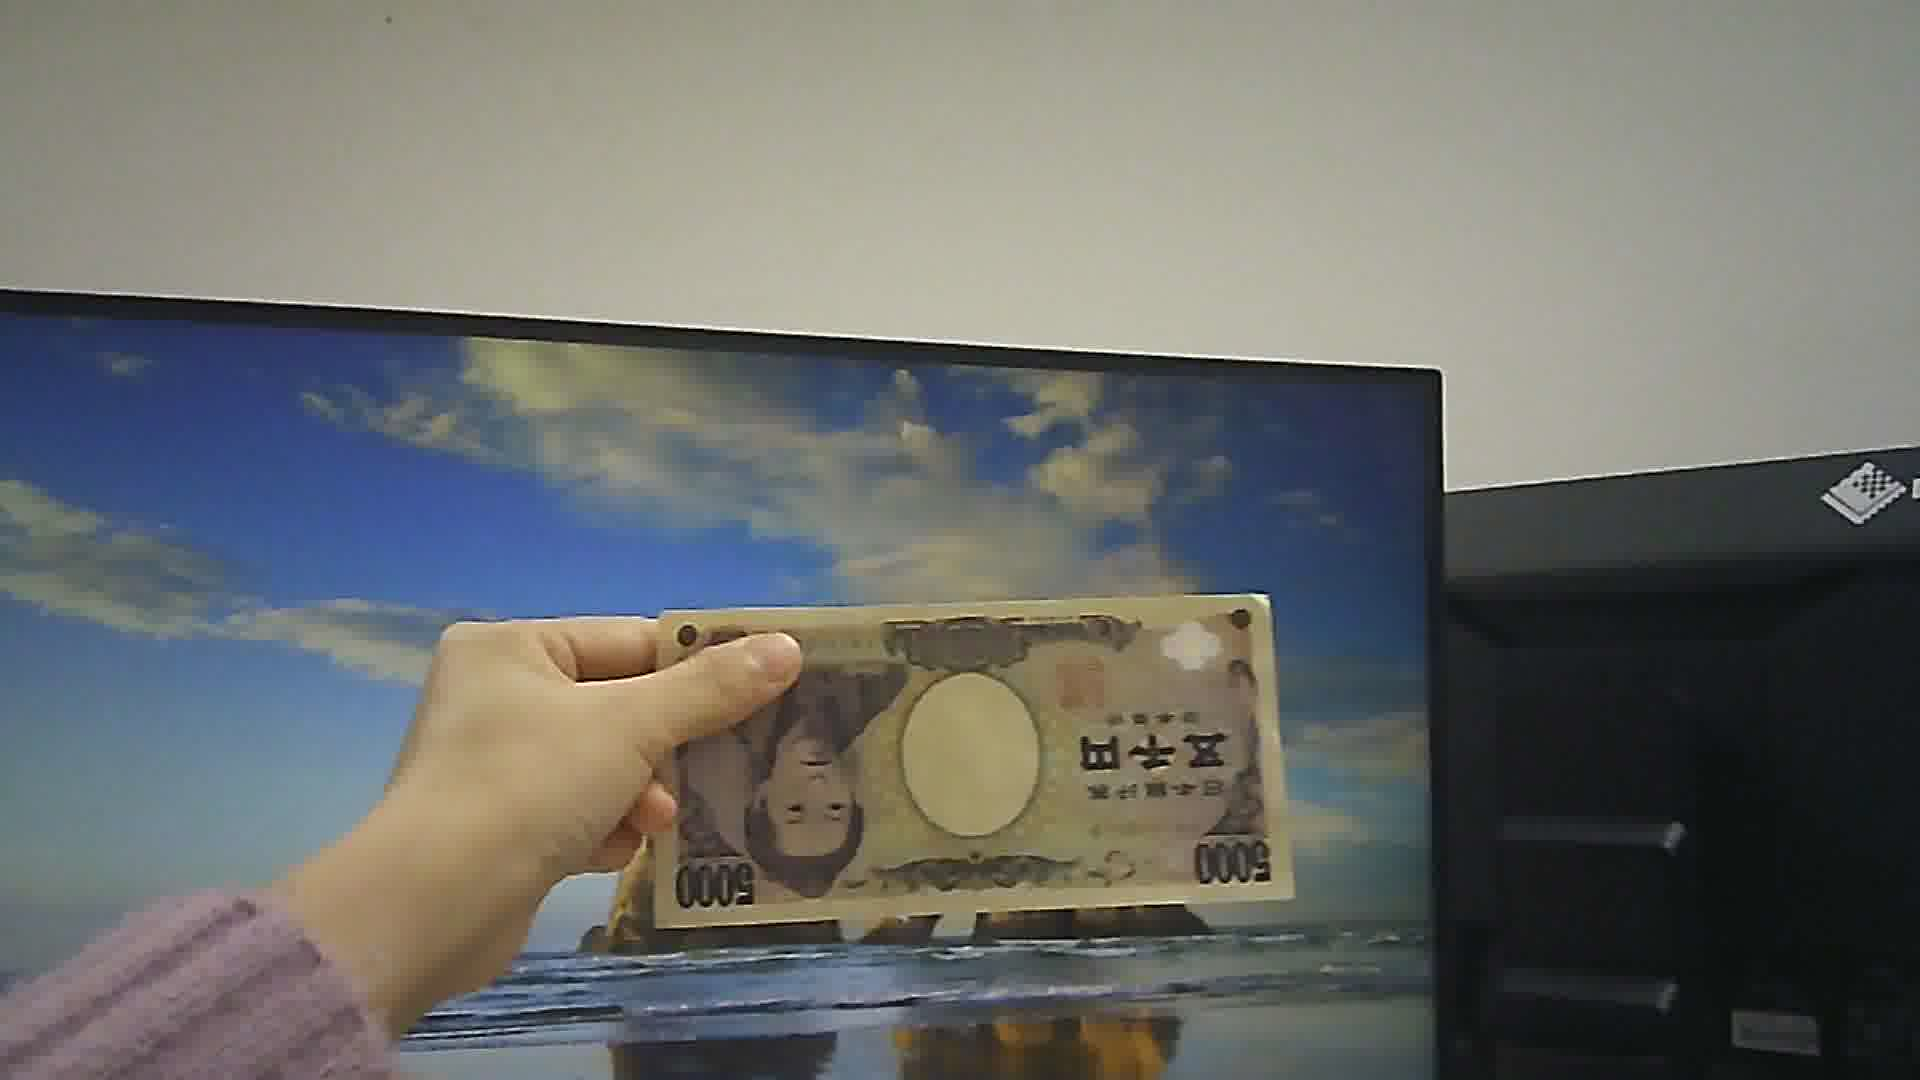5,000 Yen: (622, 579, 1328, 907)
